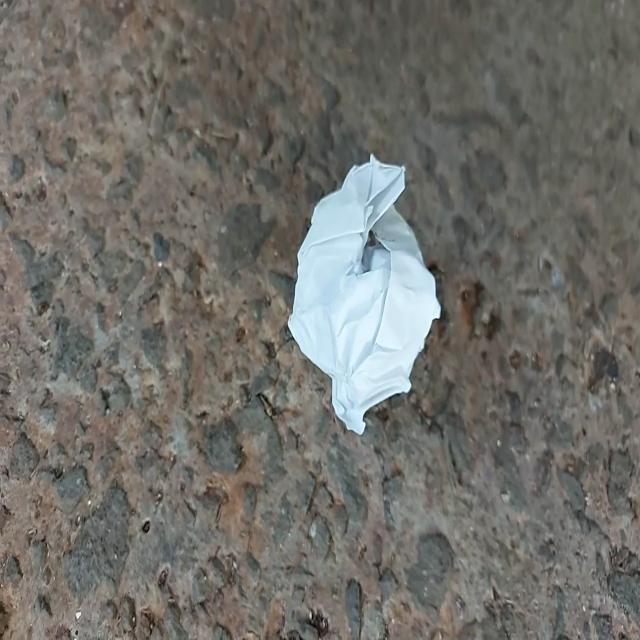Paper: (278, 136, 459, 460)
